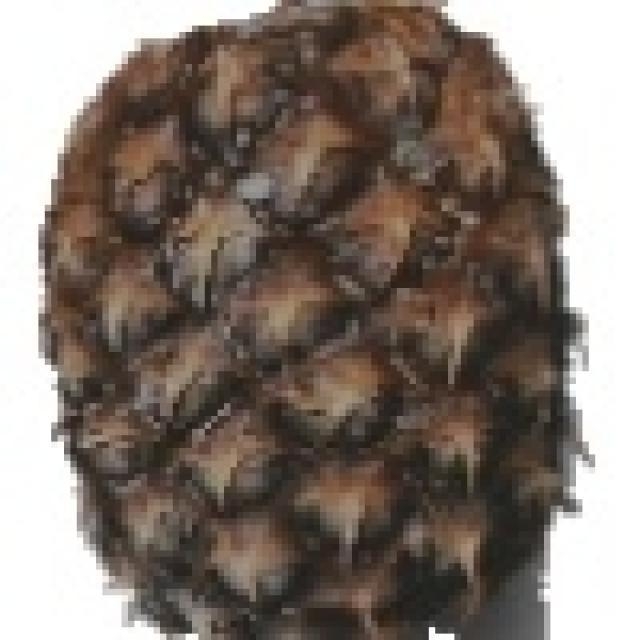pineapple: (40, 0, 582, 640)
